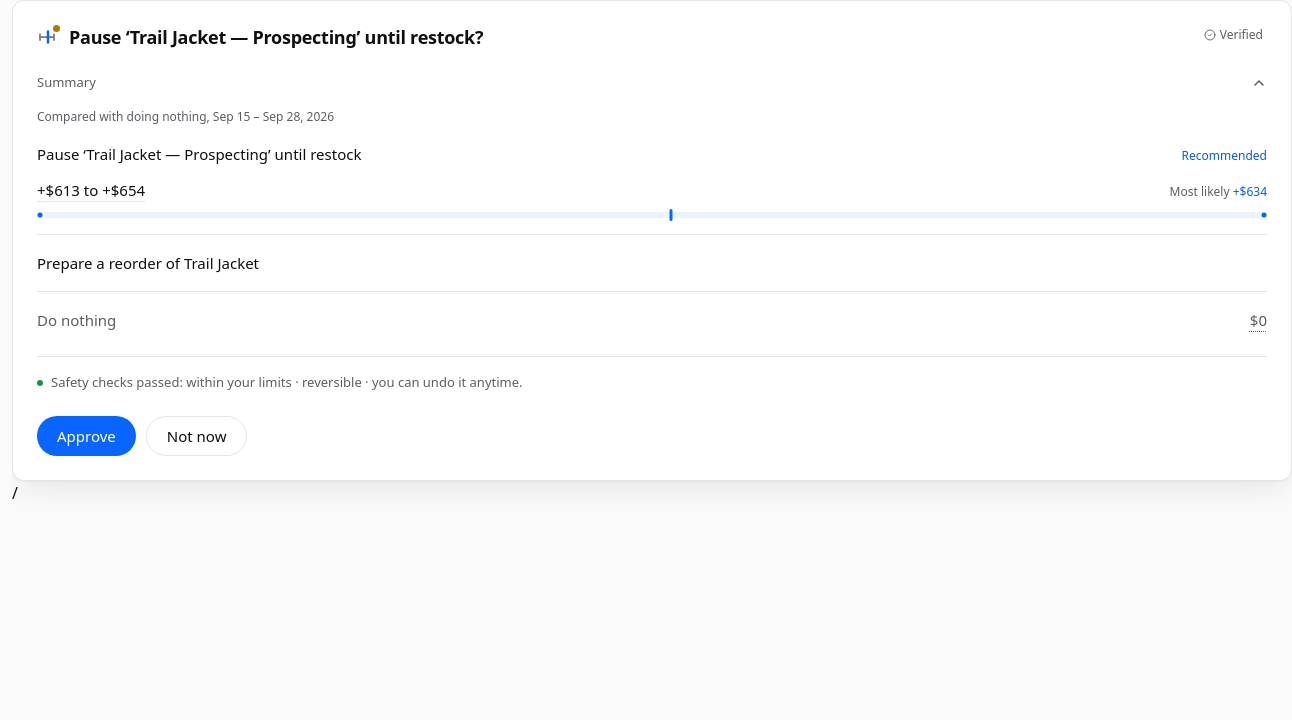
Test: a decision in the conversation › says when it is expired
Click the button "Not now" at (197, 436), box [146,416,247,456]
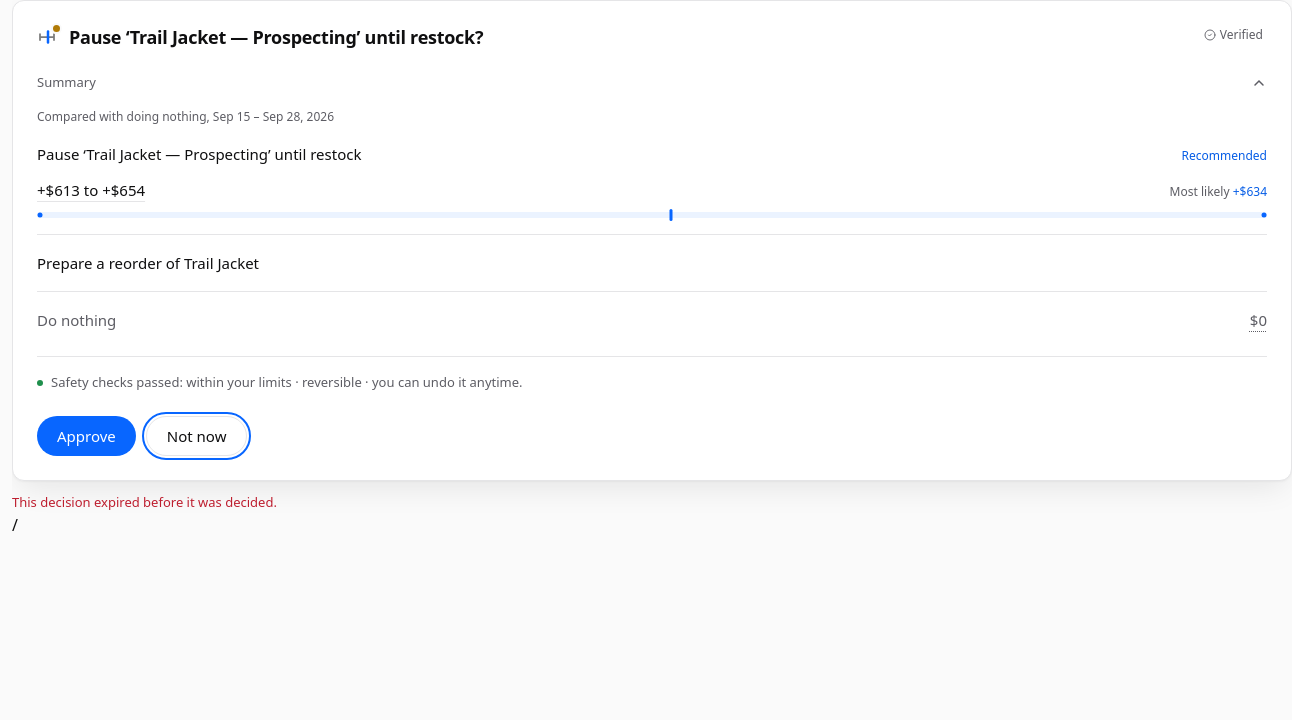
Expected: the message reads "This decision expired before it was decided.", [12,493,277,511]
